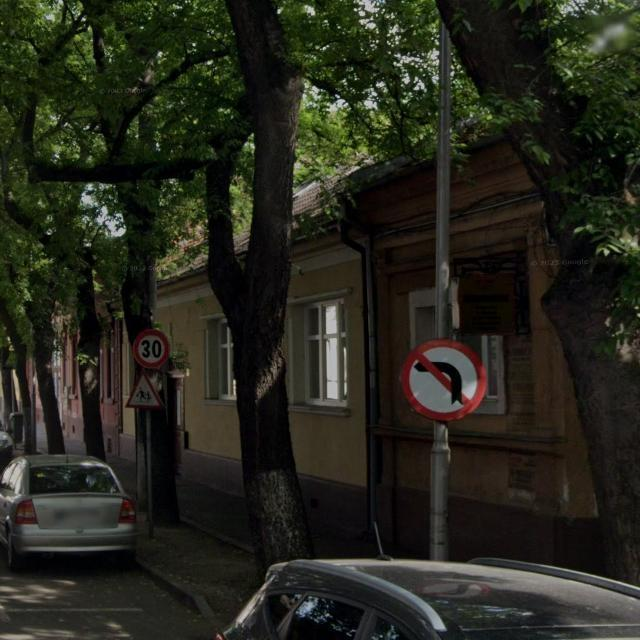forb_speed_over_30: (133, 330, 168, 368)
